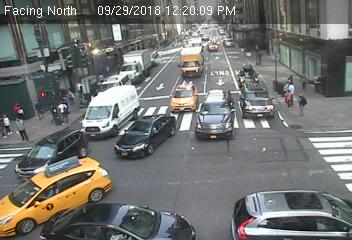car: (1, 156, 111, 235), (229, 187, 352, 240), (41, 202, 195, 240), (80, 83, 139, 139), (14, 131, 87, 176), (113, 115, 179, 157), (197, 88, 235, 142), (237, 77, 277, 122), (116, 50, 151, 81), (177, 45, 206, 77), (168, 82, 198, 112), (239, 64, 261, 90), (207, 40, 217, 51), (223, 37, 234, 46)
